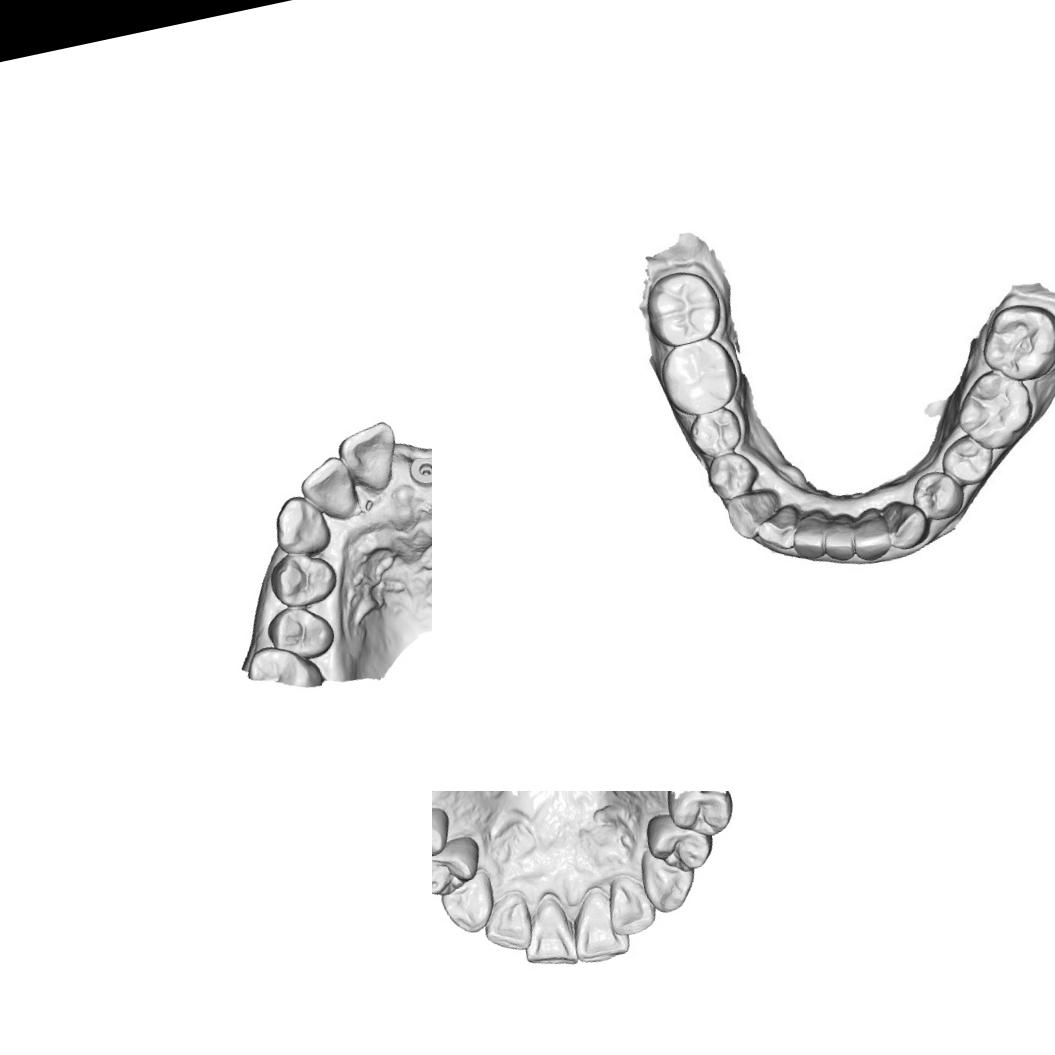canine: (265, 488, 340, 562), (634, 839, 702, 917), (435, 866, 501, 940), (721, 483, 788, 541), (880, 497, 927, 551)
implant: (403, 448, 432, 493)
incisor: (332, 417, 406, 499), (562, 882, 632, 967), (512, 893, 582, 975), (292, 450, 364, 528), (598, 868, 660, 940), (475, 888, 538, 958), (844, 500, 894, 562), (815, 517, 863, 569), (752, 506, 800, 556), (788, 515, 832, 564)
molar: (956, 365, 1041, 451), (640, 263, 722, 348), (660, 331, 740, 418), (980, 299, 1055, 383)
premolar: (640, 803, 718, 880), (260, 596, 342, 667), (264, 546, 342, 612), (663, 791, 739, 845), (432, 832, 489, 902), (688, 404, 746, 459), (910, 466, 966, 520), (704, 450, 761, 503), (942, 434, 999, 486), (432, 802, 458, 873)
